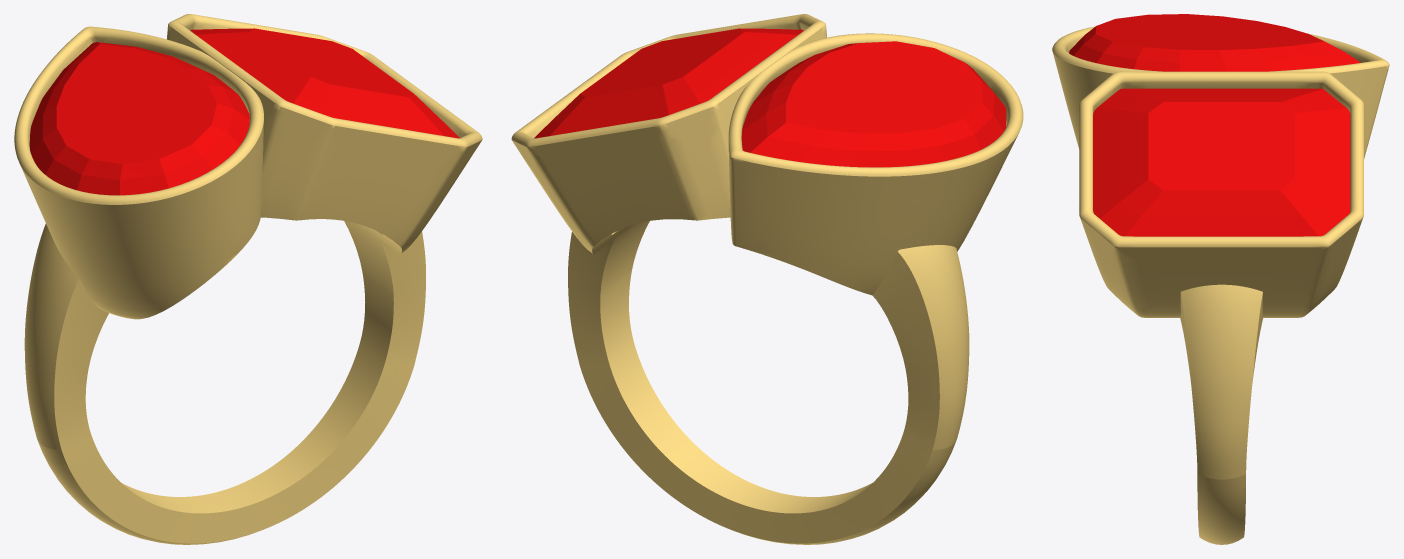
Rendered from Amy Jesiolowski Taper Garnet.glb.
3 renders of one model, left to right at view 1: azimuth 30°, elevation 25°; view 2: azimuth 150°, elevation 25°; view 3: azimuth 270°, elevation 25°, orthographic. The views are drawn at different scales.
Visible parts, largest first — view 1: Amy YG taper for 3d model, Amy garnet for 3d model, Amy garnet for 3d model.001; view 2: Amy YG taper for 3d model, Amy garnet for 3d model, Amy garnet for 3d model.001; view 3: Amy YG taper for 3d model, Amy garnet for 3d model.001, Amy garnet for 3d model.
Part boxes in pixels (left/top/right/bottom): Amy YG taper for 3d model: left=14, top=14, right=482, bottom=544; Amy garnet for 3d model: left=29, top=42, right=249, bottom=195; Amy garnet for 3d model.001: left=190, top=28, right=459, bottom=138; Amy YG taper for 3d model: left=511, top=14, right=1023, bottom=544; Amy garnet for 3d model: left=741, top=41, right=1006, bottom=167; Amy garnet for 3d model.001: left=534, top=28, right=803, bottom=138; Amy YG taper for 3d model: left=1052, top=26, right=1389, bottom=544; Amy garnet for 3d model.001: left=1093, top=88, right=1350, bottom=236; Amy garnet for 3d model: left=1069, top=14, right=1360, bottom=71.
Size of the model in its own units: 21.53 by 23.81 by 15.94.
